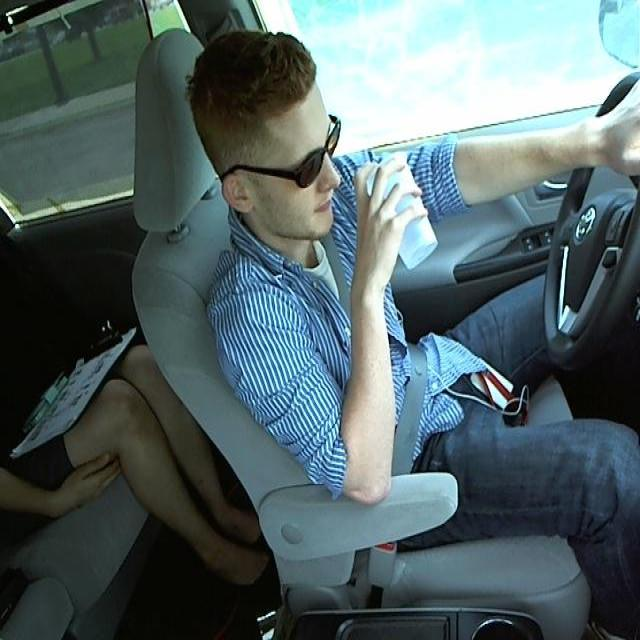Seatbelt: (362, 147, 438, 264)
